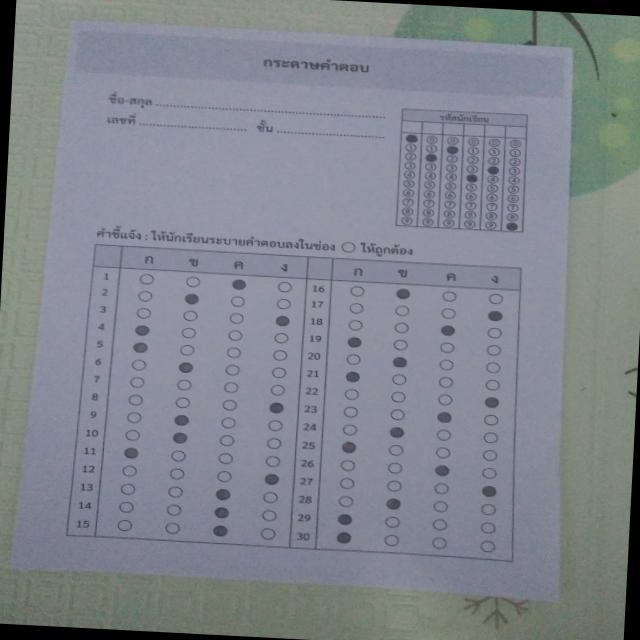Choice: (56, 236, 544, 572)
ID: (386, 101, 539, 241)
